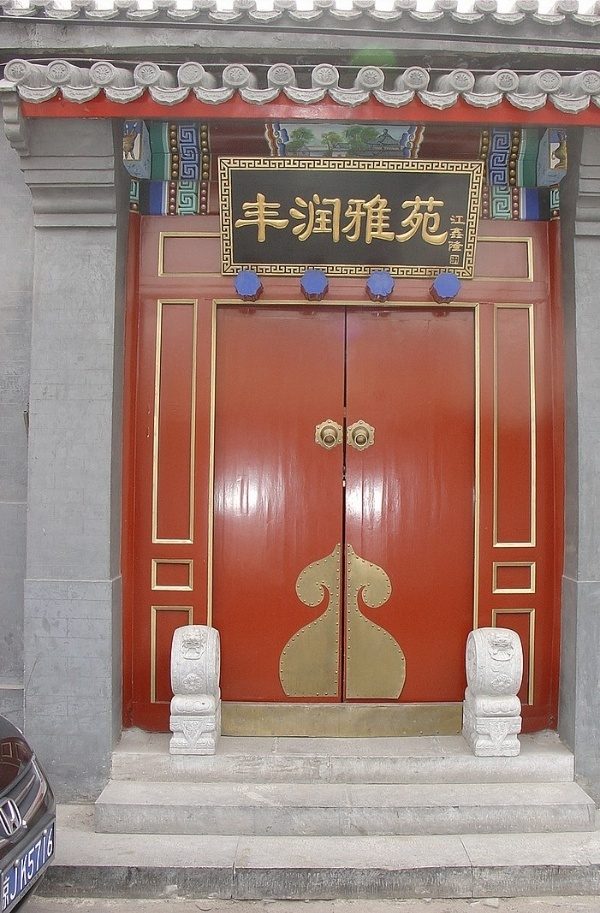text: (17, 825, 32, 913), (33, 825, 48, 913), (3, 825, 16, 913), (241, 190, 256, 249), (257, 190, 272, 249), (273, 190, 288, 249), (289, 190, 304, 249), (305, 190, 320, 249), (321, 190, 336, 249), (337, 190, 352, 249), (353, 190, 368, 249), (369, 190, 384, 249), (385, 190, 400, 249), (401, 190, 416, 249), (417, 190, 432, 249), (433, 190, 448, 249), (450, 214, 464, 253), (49, 825, 54, 913), (234, 190, 240, 249), (449, 190, 452, 249), (465, 214, 466, 253)
